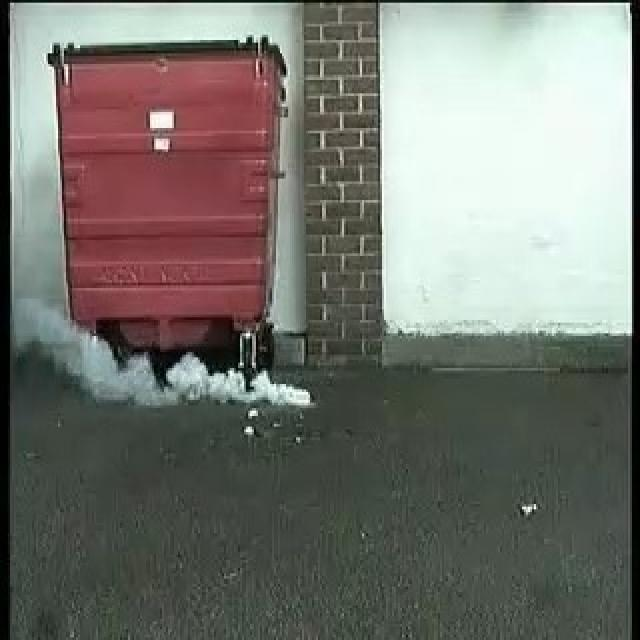smoke: (84, 350, 310, 404)
